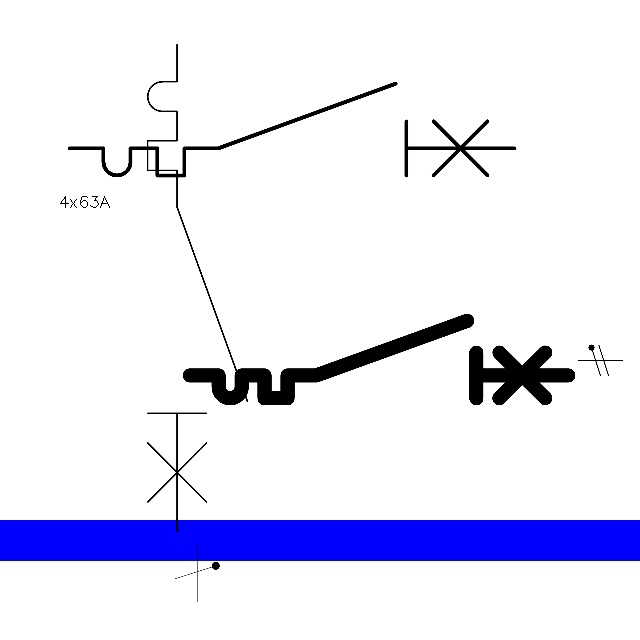interruptor_termomagnetico: (135, 32, 260, 544), (58, 72, 526, 187), (180, 311, 578, 408)
